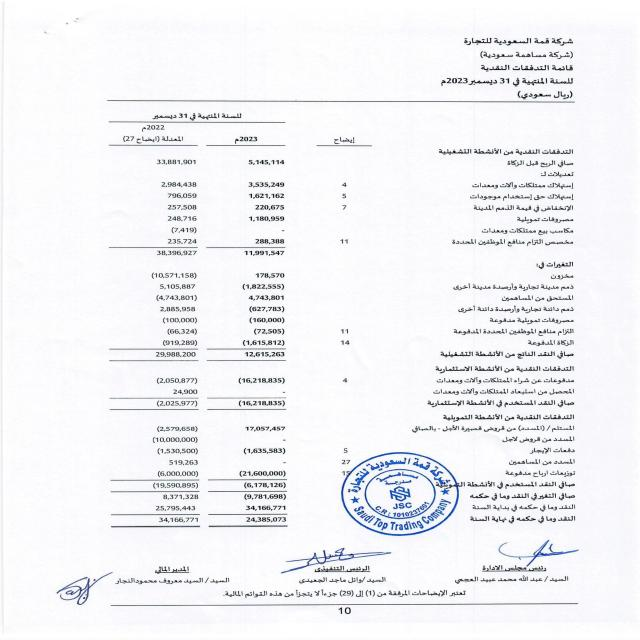financial_sheets: (472, 63, 577, 77)
table: (52, 110, 344, 548)
